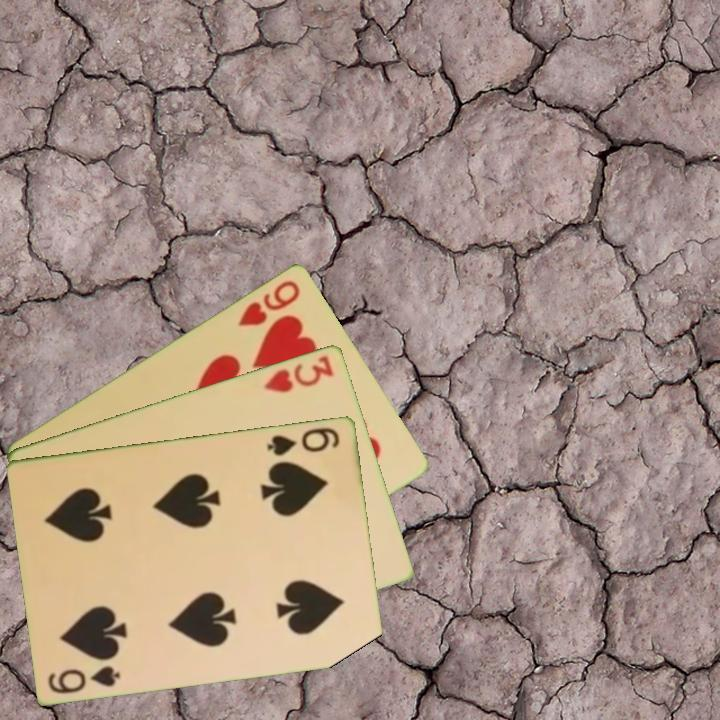3h: (260, 351, 337, 395)
6s: (264, 423, 343, 458), (45, 662, 124, 696)
9h: (234, 276, 303, 329)
